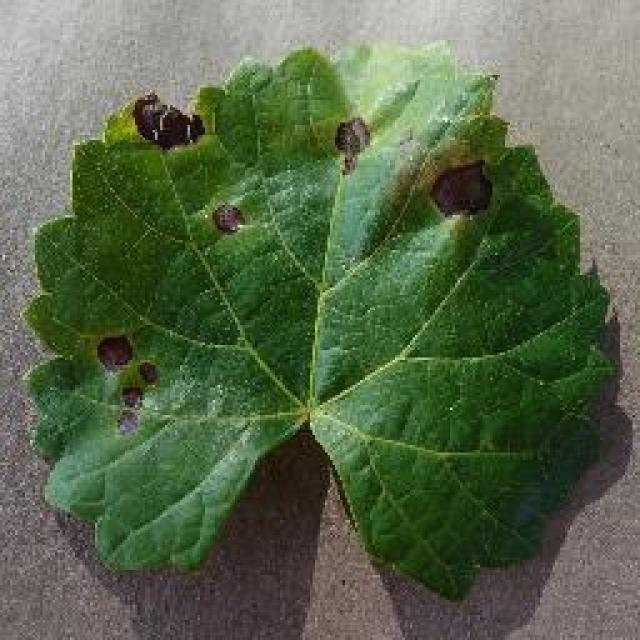Grape___Black_rot: (14, 31, 620, 612)
